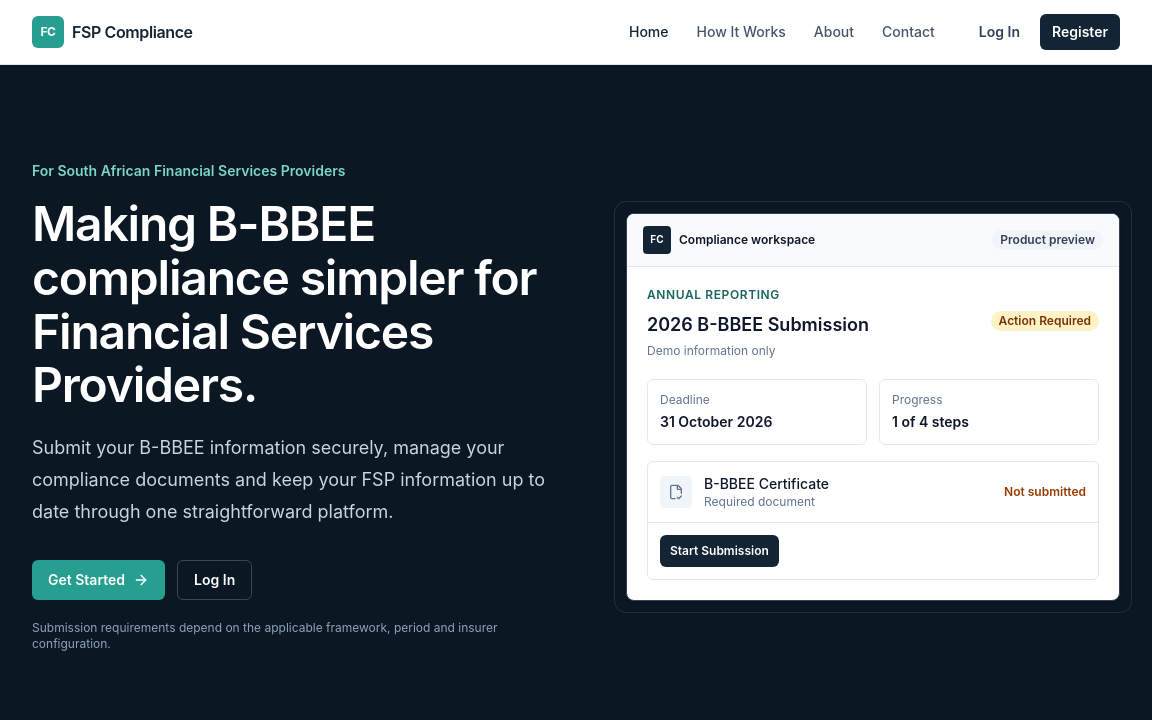
Test case: public website › navigates using the public navigation
The image size is (1152, 720).
Click the link "How It Works" at (741, 32), box [696,22,786,42]
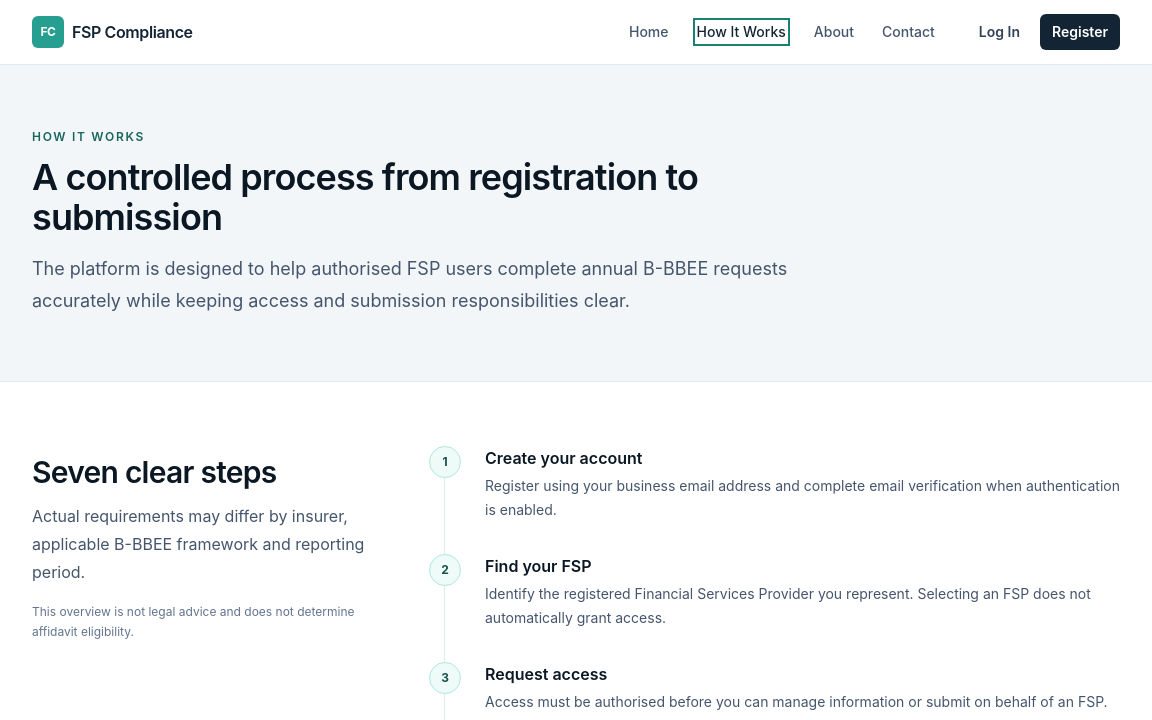
Check: the heading "A controlled process from registration to submission" is shown, box [32,157,800,237]
